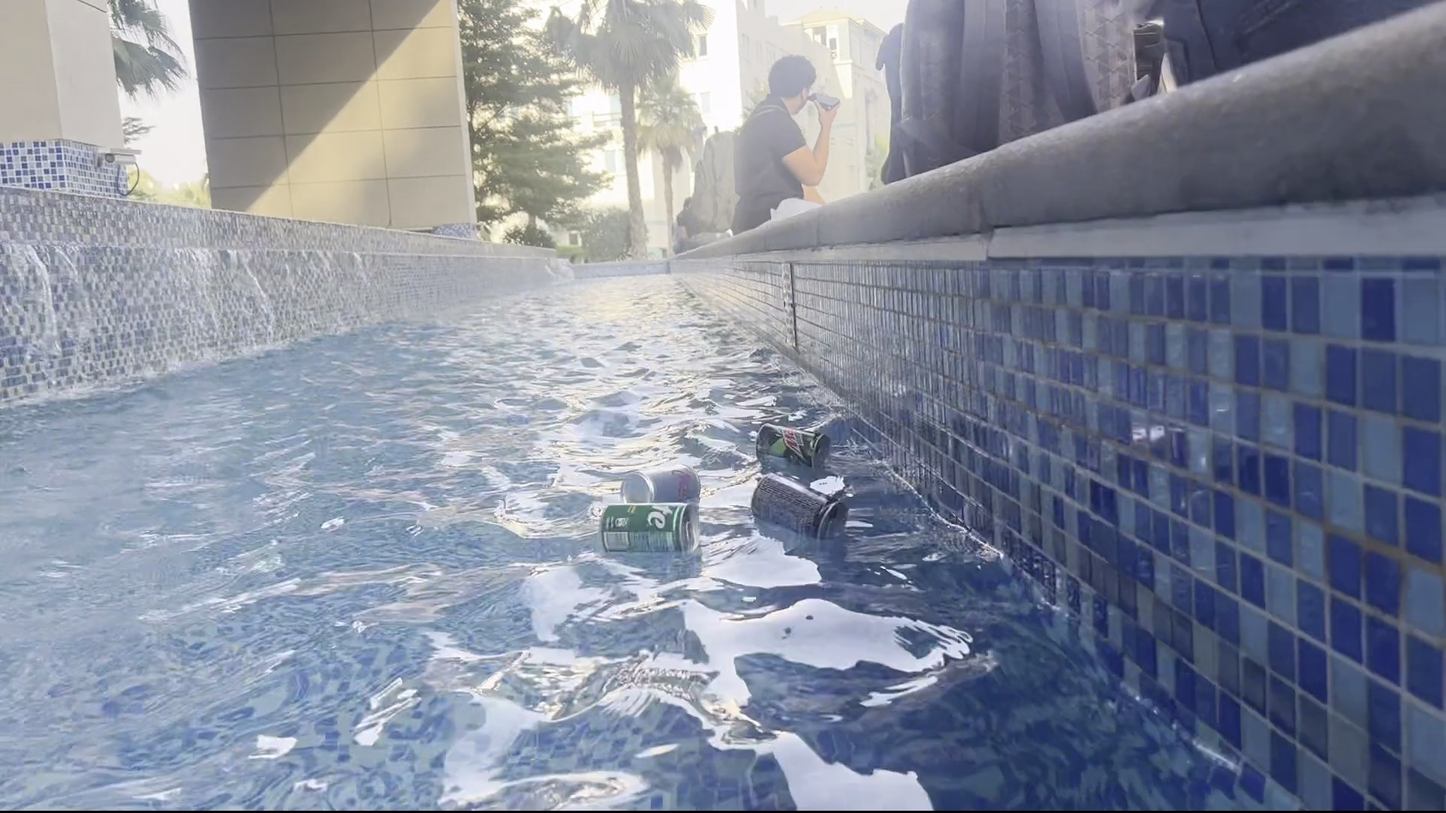debris: (744, 469, 853, 549), (594, 488, 705, 564), (615, 452, 703, 513), (747, 416, 833, 474)
